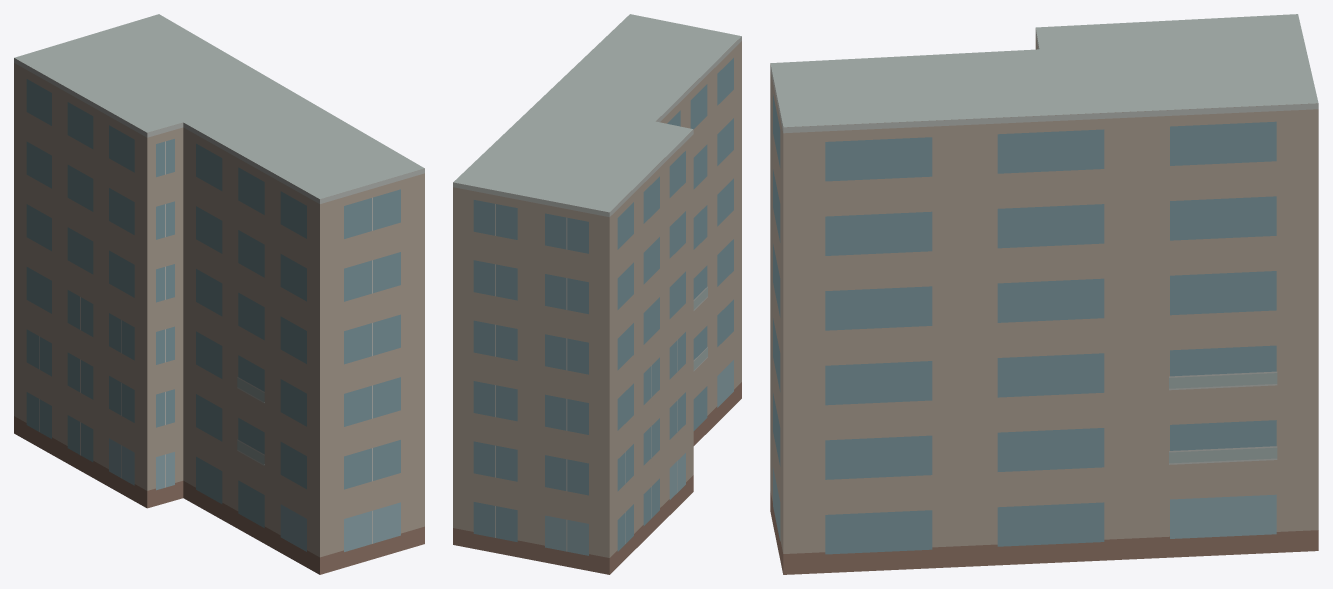
The model's file is survey-upis-32879791.glb.
The picture shows the model from 3 angles, left to right: view 1: azimuth 30°, elevation 25°; view 2: azimuth 150°, elevation 25°; view 3: azimuth 270°, elevation 25°; orthographic projection. The views are drawn at different scales.
Visible parts, largest first — view 1: survey-upis-32879791.tmp; view 2: survey-upis-32879791.tmp; view 3: survey-upis-32879791.tmp.
Boxes of the visible parts, x1,y1,x2,y2 form: survey-upis-32879791.tmp: (14,14,424,574); survey-upis-32879791.tmp: (453,14,741,574); survey-upis-32879791.tmp: (770,14,1318,574).
Size of the model in its own units: 10 by 18.4 by 20.44.
